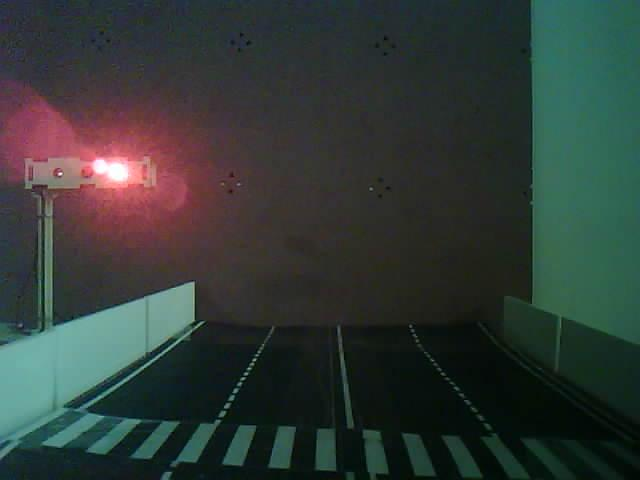crosswalk: (58, 410, 635, 480)
red: (43, 97, 197, 232)
